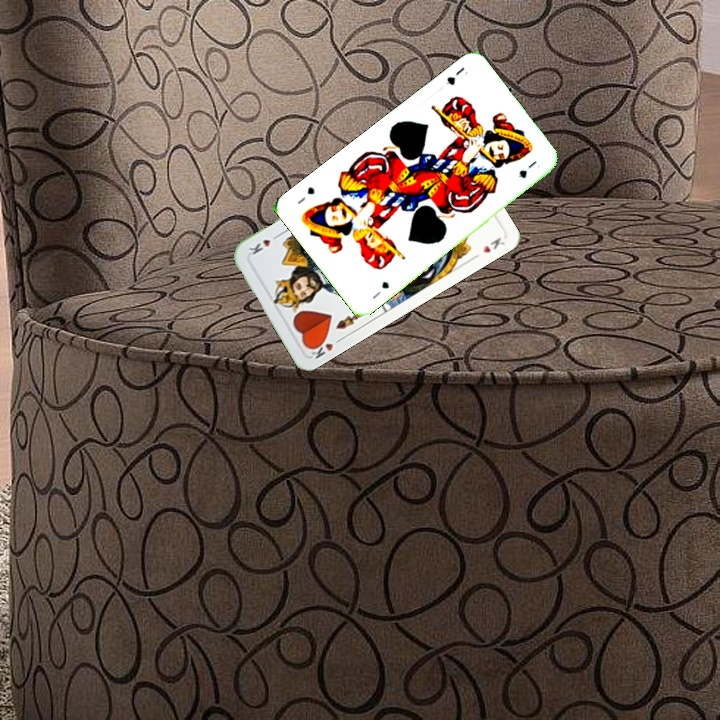GU: (442, 63, 471, 88), (368, 277, 392, 302)
HK: (305, 334, 345, 361)
